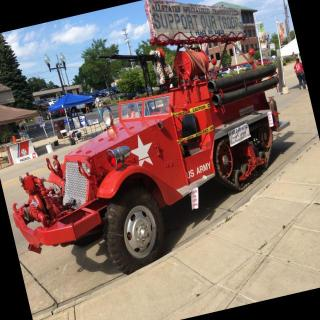Fire_truck: (13, 40, 290, 274)
